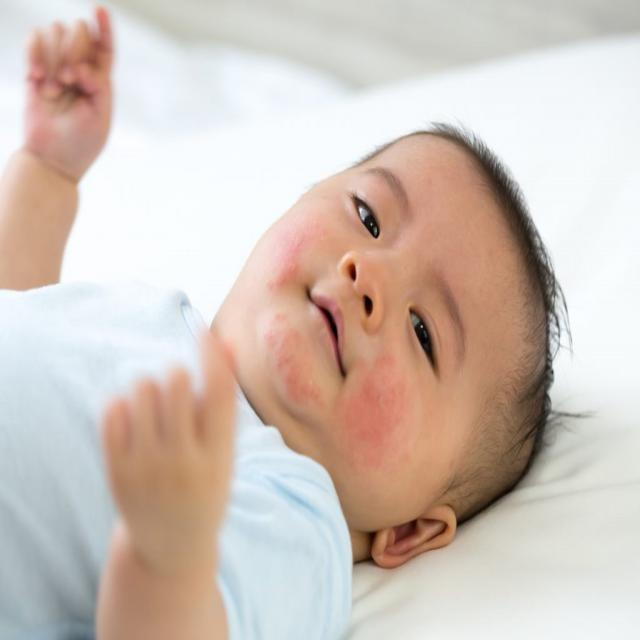hives: (339, 346, 433, 515), (257, 305, 323, 430), (268, 216, 327, 291)
